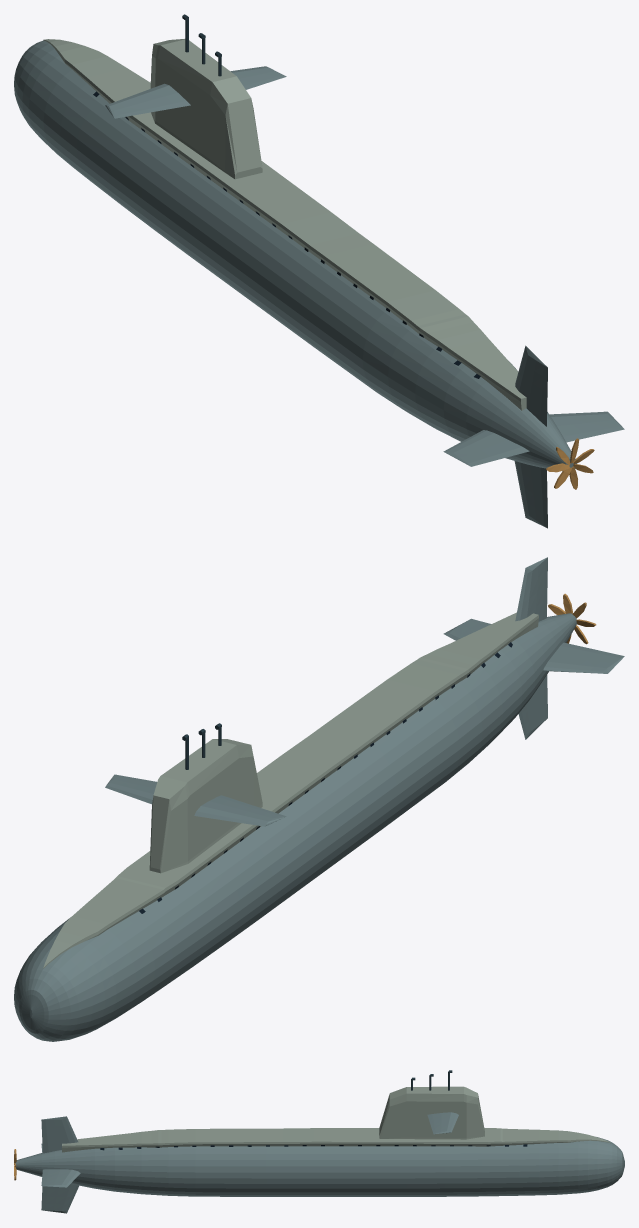
The model's file is archive-rubis-amethyste.glb.
3 renders of one model, top to bottom at view 1: azimuth 30°, elevation 25°; view 2: azimuth 150°, elevation 25°; view 3: azimuth 270°, elevation 25°, orthographic. The views are drawn at different scales.
Visible parts, largest first — view 1: archive-rubis-amethyste-pressure_hull.015-geometry, archive-rubis-amethyste-cruise_deck.011-geometry, archive-rubis-amethyste-submarine_sail.015-geometry, archive-rubis-amethyste-stern_rudder_2.009-geometry, archive-rubis-amethyste-stern_rudder_3.009-geometry, archive-rubis-amethyste-diving_plane_-1.015-geometry, archive-rubis-amethyste-stern_rudder_1.009-geometry, archive-rubis-amethyste-stern_rudder_0.009-geometry, archive-rubis-amethyste-screw_0.015-geometry, archive-rubis-amethyste-diving_plane_1.015-geometry; view 2: archive-rubis-amethyste-pressure_hull.015-geometry, archive-rubis-amethyste-cruise_deck.011-geometry, archive-rubis-amethyste-submarine_sail.015-geometry, archive-rubis-amethyste-stern_rudder_2.009-geometry, archive-rubis-amethyste-diving_plane_-1.015-geometry, archive-rubis-amethyste-stern_rudder_3.009-geometry, archive-rubis-amethyste-stern_rudder_1.009-geometry, archive-rubis-amethyste-diving_plane_1.015-geometry; view 3: archive-rubis-amethyste-pressure_hull.015-geometry, archive-rubis-amethyste-cruise_deck.011-geometry, archive-rubis-amethyste-submarine_sail.015-geometry, archive-rubis-amethyste-stern_rudder_3.009-geometry, archive-rubis-amethyste-stern_rudder_1.009-geometry, archive-rubis-amethyste-stern_rudder_0.009-geometry, archive-rubis-amethyste-diving_plane_1.015-geometry, archive-rubis-amethyste-flood_openings.011-geometry.
Part boxes in pixels (left/top/right/bottom): archive-rubis-amethyste-pressure_hull.015-geometry: left=14, top=40, right=577, bottom=471; archive-rubis-amethyste-cruise_deck.011-geometry: left=43, top=39, right=526, bottom=410; archive-rubis-amethyste-submarine_sail.015-geometry: left=150, top=14, right=262, bottom=179; archive-rubis-amethyste-stern_rudder_2.009-geometry: left=443, top=430, right=529, bottom=466; archive-rubis-amethyste-stern_rudder_3.009-geometry: left=515, top=345, right=547, bottom=426; archive-rubis-amethyste-diving_plane_-1.015-geometry: left=105, top=83, right=190, bottom=118; archive-rubis-amethyste-stern_rudder_1.009-geometry: left=514, top=461, right=547, bottom=528; archive-rubis-amethyste-stern_rudder_0.009-geometry: left=549, top=411, right=624, bottom=442; archive-rubis-amethyste-screw_0.015-geometry: left=546, top=438, right=594, bottom=489; archive-rubis-amethyste-diving_plane_1.015-geometry: left=230, top=66, right=286, bottom=89; archive-rubis-amethyste-pressure_hull.015-geometry: left=14, top=613, right=576, bottom=1041; archive-rubis-amethyste-cruise_deck.011-geometry: left=43, top=612, right=538, bottom=968; archive-rubis-amethyste-submarine_sail.015-geometry: left=149, top=723, right=262, bottom=873; archive-rubis-amethyste-stern_rudder_2.009-geometry: left=543, top=642, right=624, bottom=673; archive-rubis-amethyste-diving_plane_-1.015-geometry: left=194, top=795, right=286, bottom=826; archive-rubis-amethyste-stern_rudder_3.009-geometry: left=515, top=557, right=547, bottom=621; archive-rubis-amethyste-stern_rudder_1.009-geometry: left=518, top=675, right=547, bottom=739; archive-rubis-amethyste-diving_plane_1.015-geometry: left=105, top=774, right=157, bottom=804; archive-rubis-amethyste-pressure_hull.015-geometry: left=15, top=1137, right=624, bottom=1196; archive-rubis-amethyste-cruise_deck.011-geometry: left=62, top=1128, right=610, bottom=1152; archive-rubis-amethyste-submarine_sail.015-geometry: left=379, top=1070, right=484, bottom=1139; archive-rubis-amethyste-stern_rudder_3.009-geometry: left=41, top=1116, right=78, bottom=1153; archive-rubis-amethyste-stern_rudder_1.009-geometry: left=41, top=1184, right=78, bottom=1213; archive-rubis-amethyste-stern_rudder_0.009-geometry: left=41, top=1169, right=80, bottom=1187; archive-rubis-amethyste-diving_plane_1.015-geometry: left=427, top=1112, right=458, bottom=1134; archive-rubis-amethyste-flood_openings.011-geometry: left=100, top=1144, right=527, bottom=1150.
Size of the model in its own units: 1.81 by 2.54 by 9.82.
